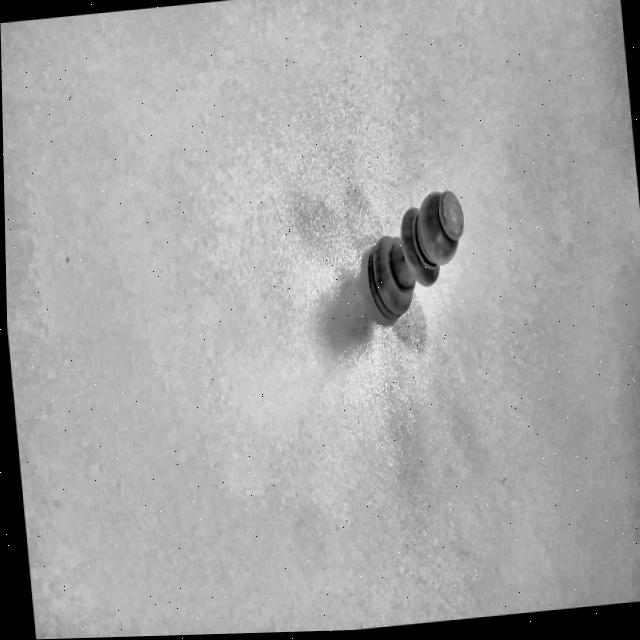white-bishop: (327, 189, 463, 346)
